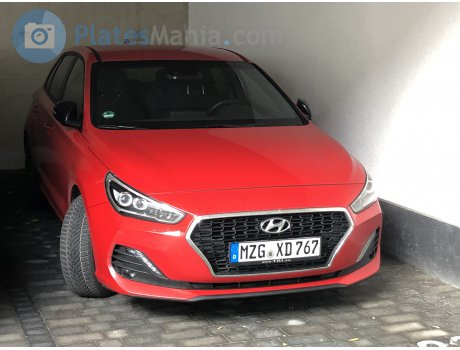License Plates: (242, 240, 323, 255)
